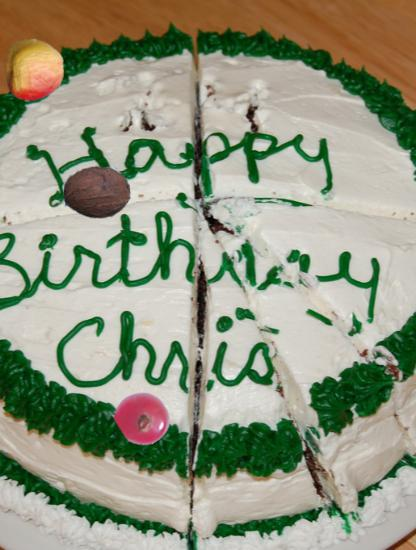Apple: (3, 39, 66, 102)
Cocos: (63, 159, 131, 227)
Redcurrant: (116, 391, 171, 446)
